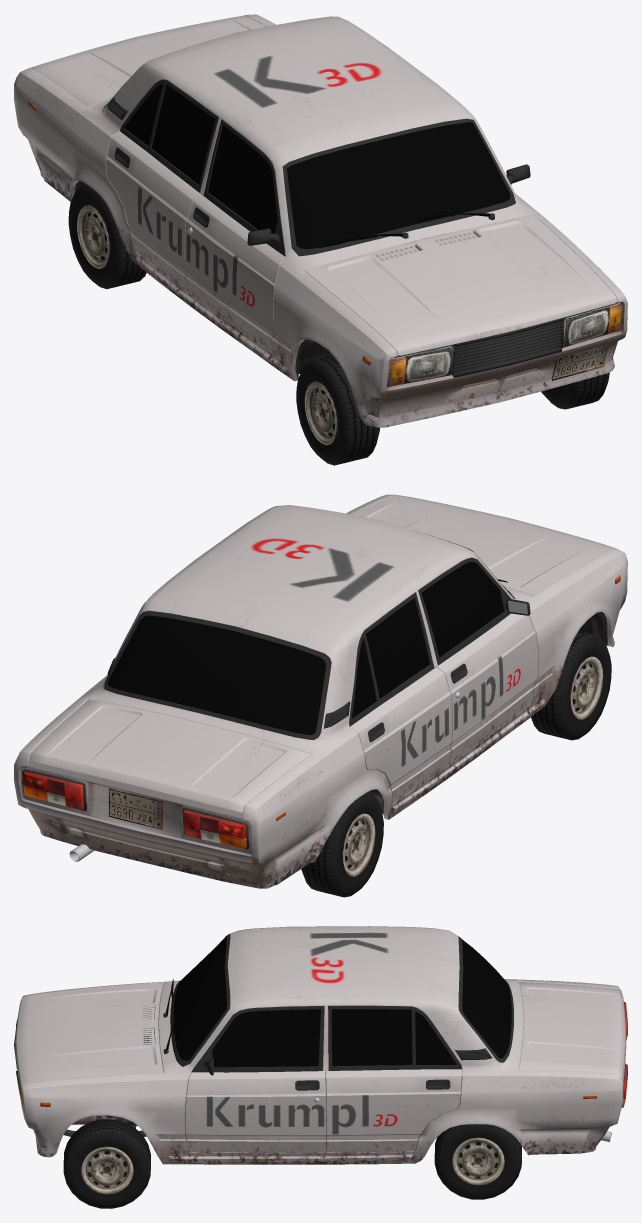
File: Kirov 2905.fbx
The picture shows the model from 3 angles, top to bottom: view 1: azimuth 30°, elevation 25°; view 2: azimuth 150°, elevation 25°; view 3: azimuth 270°, elevation 25°; orthographic projection. The views are drawn at different scales.
Parts seen in each view (by area): view 1: Kirov_2905, Hood, DoorFR, DoorRR, Trunk, WheelFR, WheelRR, WheelFL; view 2: Kirov_2905, Trunk, DoorFR, DoorRR, Hood, WheelFR, WheelRR; view 3: Kirov_2905, DoorFL, DoorRL, Hood, Trunk, WheelFL, WheelRL.
Boxes of the visible parts, x1,y1,x2,y2 form: Kirov_2905: (14, 14, 627, 427); Hood: (305, 215, 617, 356); DoorFR: (185, 119, 285, 352); DoorRR: (106, 79, 218, 290); Trunk: (31, 15, 266, 106); WheelFR: (296, 355, 379, 465); WheelRR: (68, 183, 146, 289); WheelFL: (541, 372, 609, 409); Kirov_2905: (14, 494, 627, 888); Trunk: (28, 700, 310, 819); DoorFR: (418, 558, 537, 764); DoorRR: (349, 592, 451, 803); Hood: (352, 495, 616, 596); WheelFR: (531, 631, 611, 740); WheelRR: (301, 792, 383, 897); Kirov_2905: (14, 926, 627, 1164); DoorFL: (185, 1006, 326, 1152); DoorRL: (325, 1005, 461, 1152); Hood: (15, 982, 163, 1088); Trunk: (519, 982, 626, 1081); WheelFL: (63, 1119, 150, 1208); WheelRL: (434, 1124, 521, 1199).
Bounding box in the file's own units: 172 × 146 × 401.
